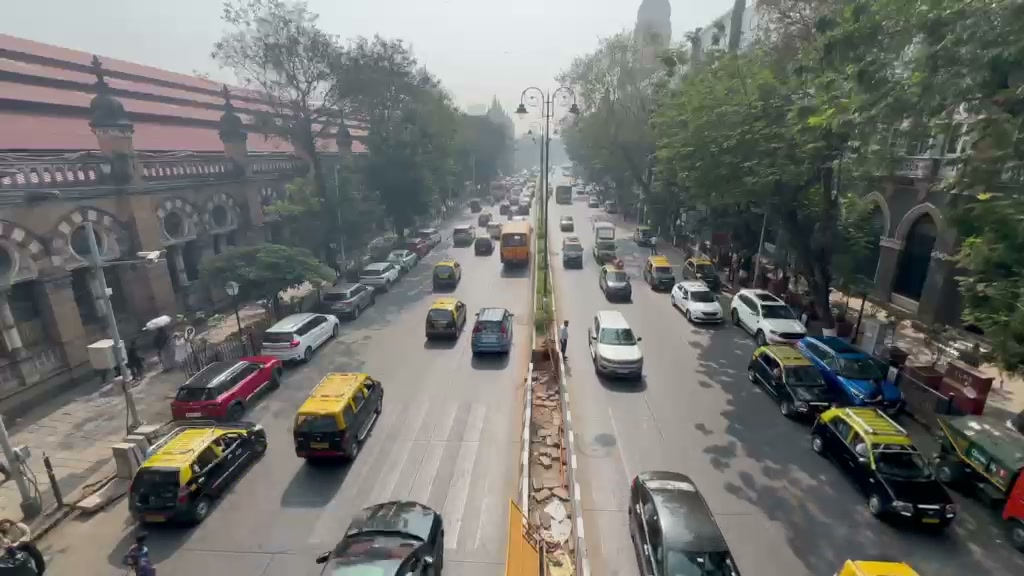bus: (499, 218, 535, 270)
car: (809, 405, 958, 530), (127, 422, 268, 526), (627, 469, 740, 575), (318, 500, 446, 575), (292, 370, 384, 465), (936, 415, 1024, 509), (799, 334, 904, 411), (747, 341, 841, 423), (170, 355, 283, 423), (260, 311, 339, 367), (730, 289, 808, 345), (589, 309, 644, 381), (670, 279, 724, 326), (318, 279, 376, 322), (470, 306, 514, 356), (1000, 466, 1024, 553), (424, 298, 466, 342), (0, 538, 46, 574), (358, 259, 401, 295), (643, 253, 678, 292), (600, 267, 633, 303), (431, 260, 461, 291), (561, 237, 585, 270), (386, 249, 418, 271)
truck: (809, 405, 959, 530), (292, 371, 385, 465), (936, 414, 1023, 510)
